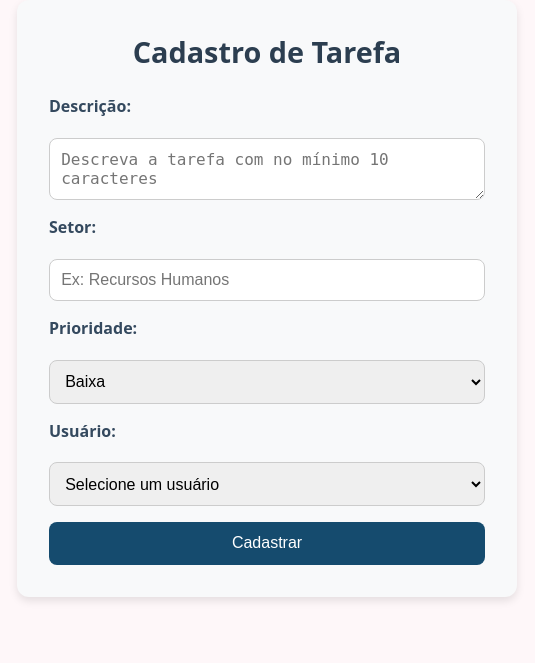
Test case: CadastroTarefa - Testes completos › 2. Deve exibir erro se a descrição tiver menos de 10 caracteres
In the text box labelled "Descrição:": (267, 169) [49,138,485,200], type "Curta"
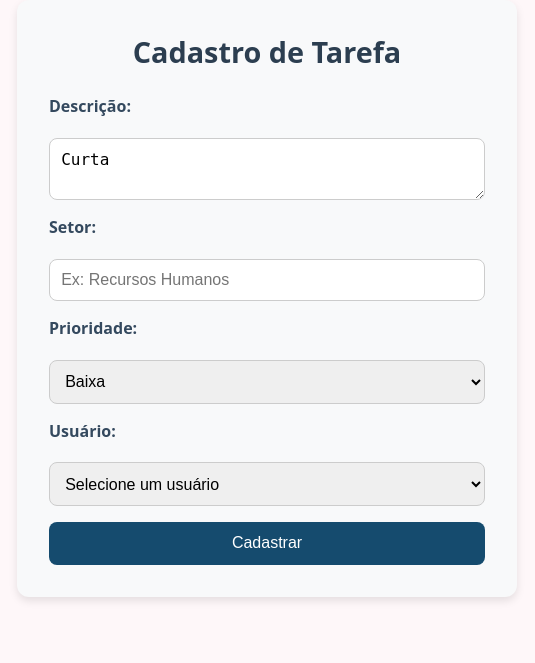
In the field labelled "Setor:": (267, 280) [49,259,485,301], type "TI"
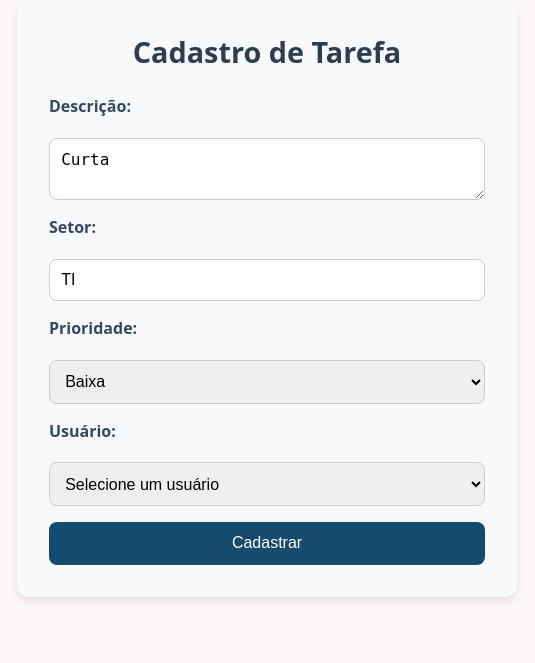
Select "1" in the dropdown labelled "Usuário:": (267, 484) [49,462,485,506]
Click the button: (267, 544) [49,522,485,565]
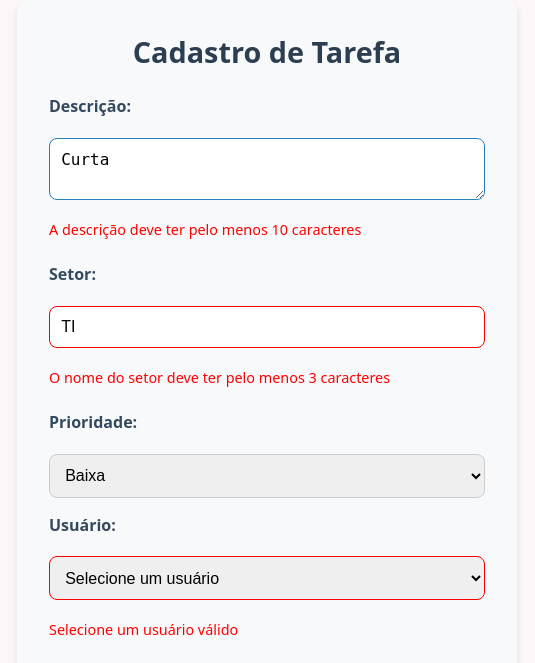
Expected: the text "A descrição deve ter pelo menos 10 caracteres" is shown, [49,220,361,239]
